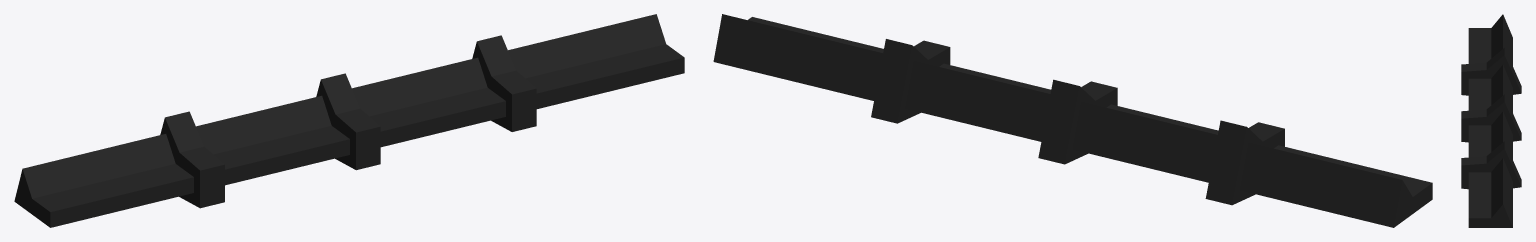
The model's file is Corner.fbx.
3 renders of one model, left to right at view 1: azimuth 30°, elevation 25°; view 2: azimuth 150°, elevation 25°; view 3: azimuth 270°, elevation 25°, orthographic. The views are drawn at different scales.
Visible parts, largest first — view 1: Cube.159; view 2: Cube.159; view 3: Cube.159.
Boxes of the visible parts, left/top/right/bottom form: Cube.159: left=14, top=14, right=684, bottom=227; Cube.159: left=713, top=14, right=1432, bottom=227; Cube.159: left=1461, top=14, right=1521, bottom=227.
Bounding box in the file's own units: 8.42 × 0.8843 × 1.13.
